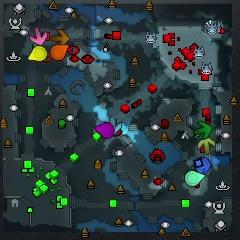p1: (195, 157, 211, 175)
p2: (184, 171, 205, 187)
p3: (94, 123, 114, 139)
p4: (27, 46, 47, 61)
p5: (51, 45, 69, 60)
x1: (31, 28, 48, 45)
x2: (198, 138, 215, 154)
x3: (104, 116, 122, 133)
x4: (194, 121, 212, 139)
x5: (51, 31, 70, 44)
